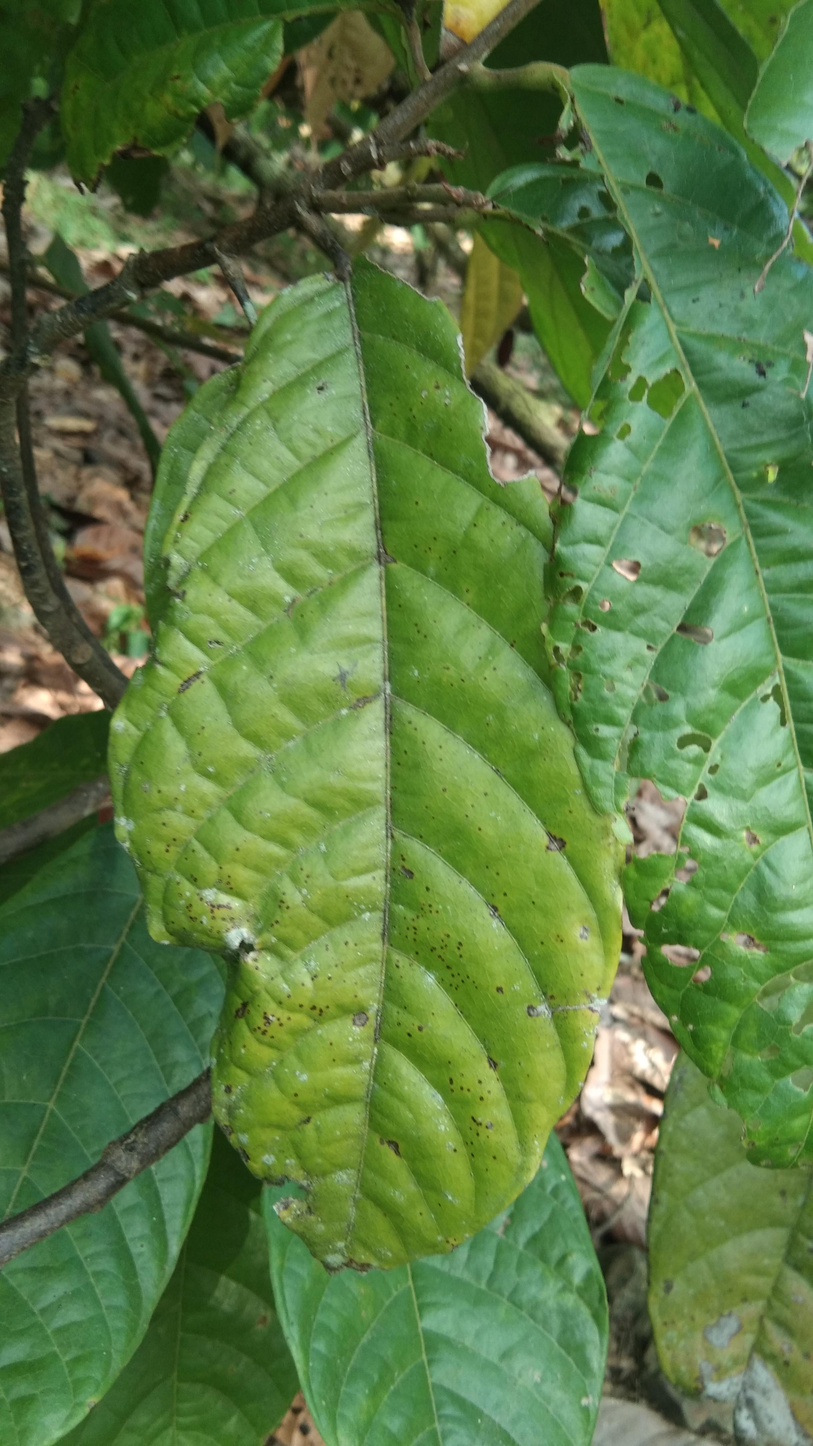deficiencia_potasio: (116, 267, 634, 1278)
